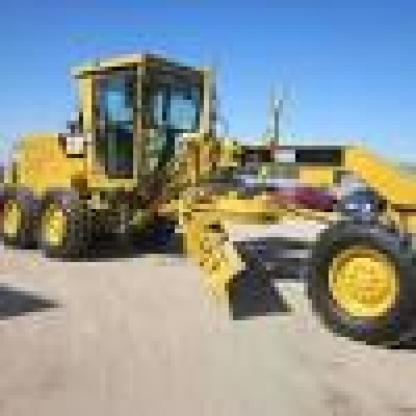bull_dozer/loader/grader: (0, 21, 412, 345)
